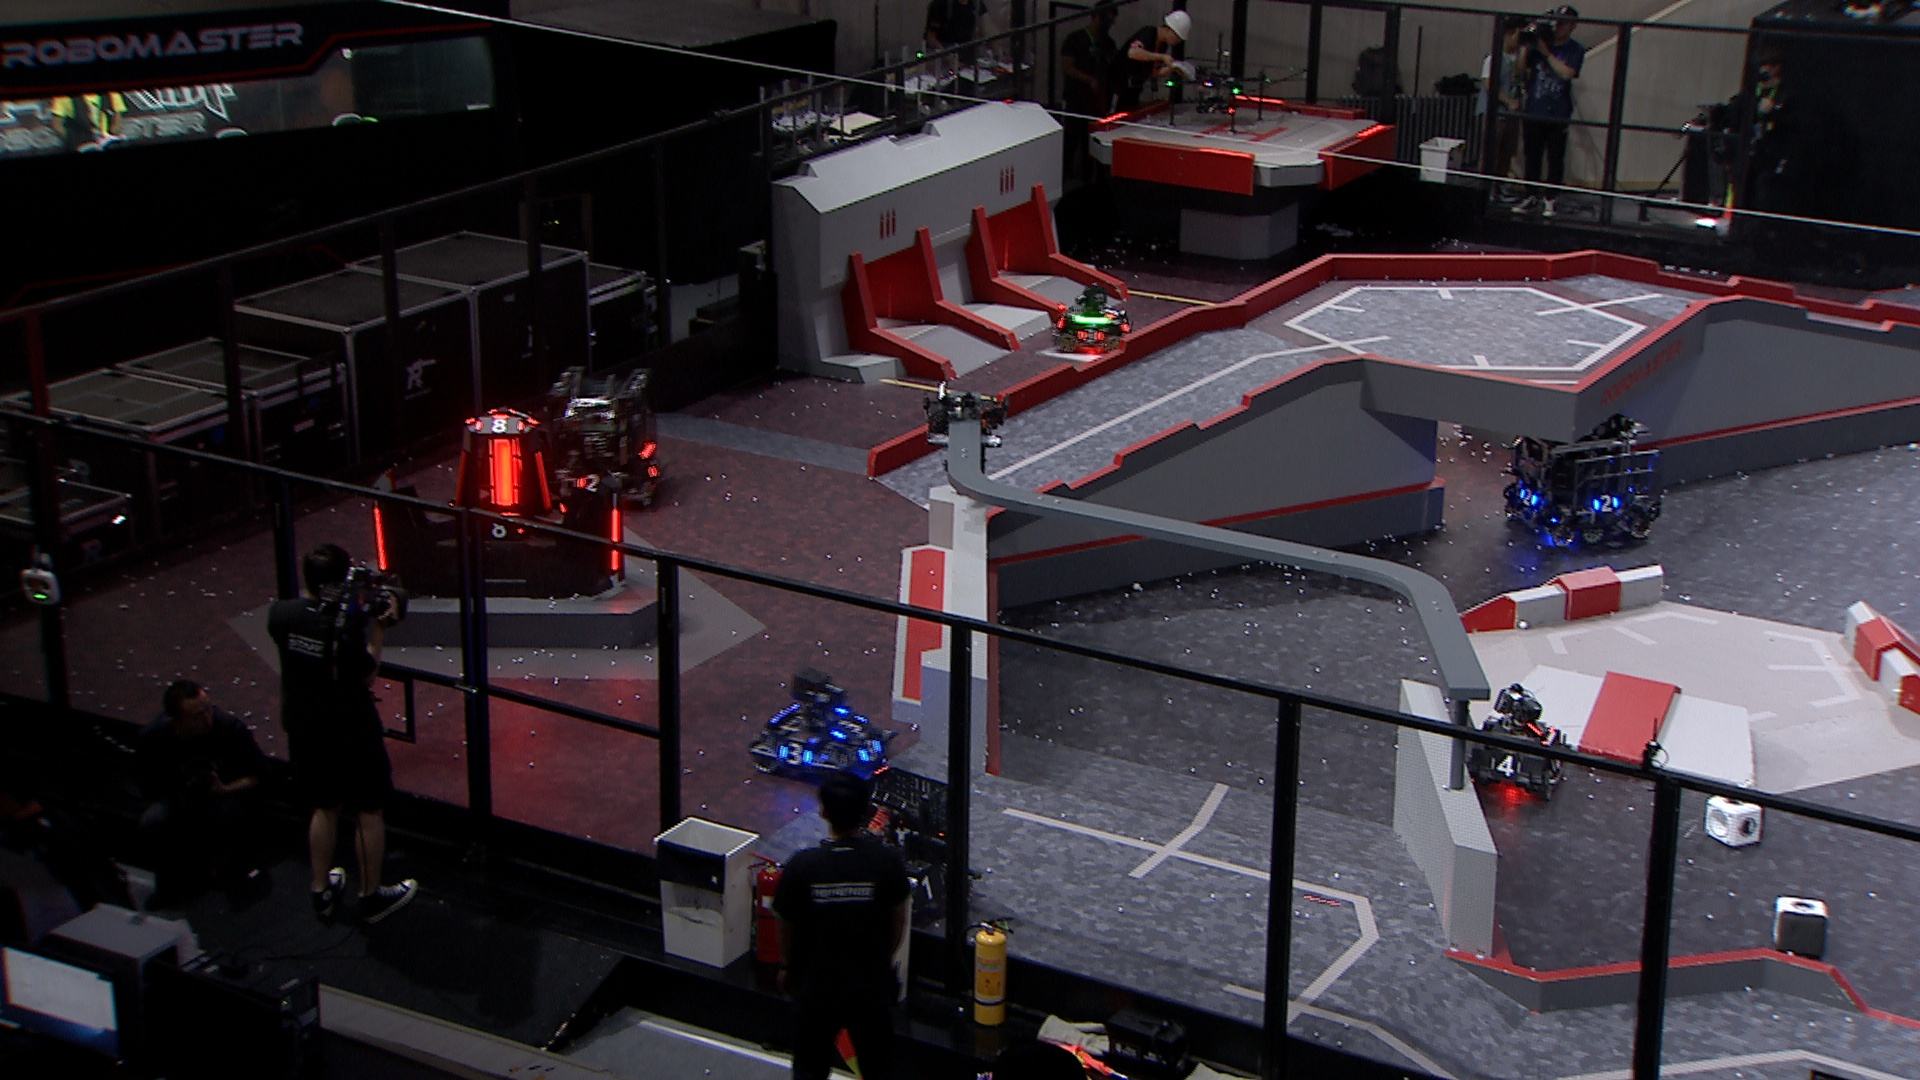armor: (491, 436, 518, 508), (909, 869, 945, 907), (531, 450, 553, 512), (472, 413, 526, 436), (605, 505, 624, 572), (372, 504, 389, 572), (448, 450, 468, 505), (833, 709, 868, 740), (487, 517, 527, 542), (775, 741, 812, 767), (1489, 756, 1522, 778), (574, 471, 603, 495), (1593, 491, 1621, 514), (858, 736, 882, 764), (1516, 485, 1542, 508), (1073, 328, 1102, 345), (1098, 301, 1121, 320), (1549, 754, 1564, 774)
base: (367, 405, 628, 604)
car: (820, 764, 986, 932), (1501, 414, 1669, 553), (538, 367, 674, 513), (745, 665, 905, 789), (1468, 684, 1571, 800), (1046, 277, 1135, 353)
watcher: (918, 380, 1007, 476)
